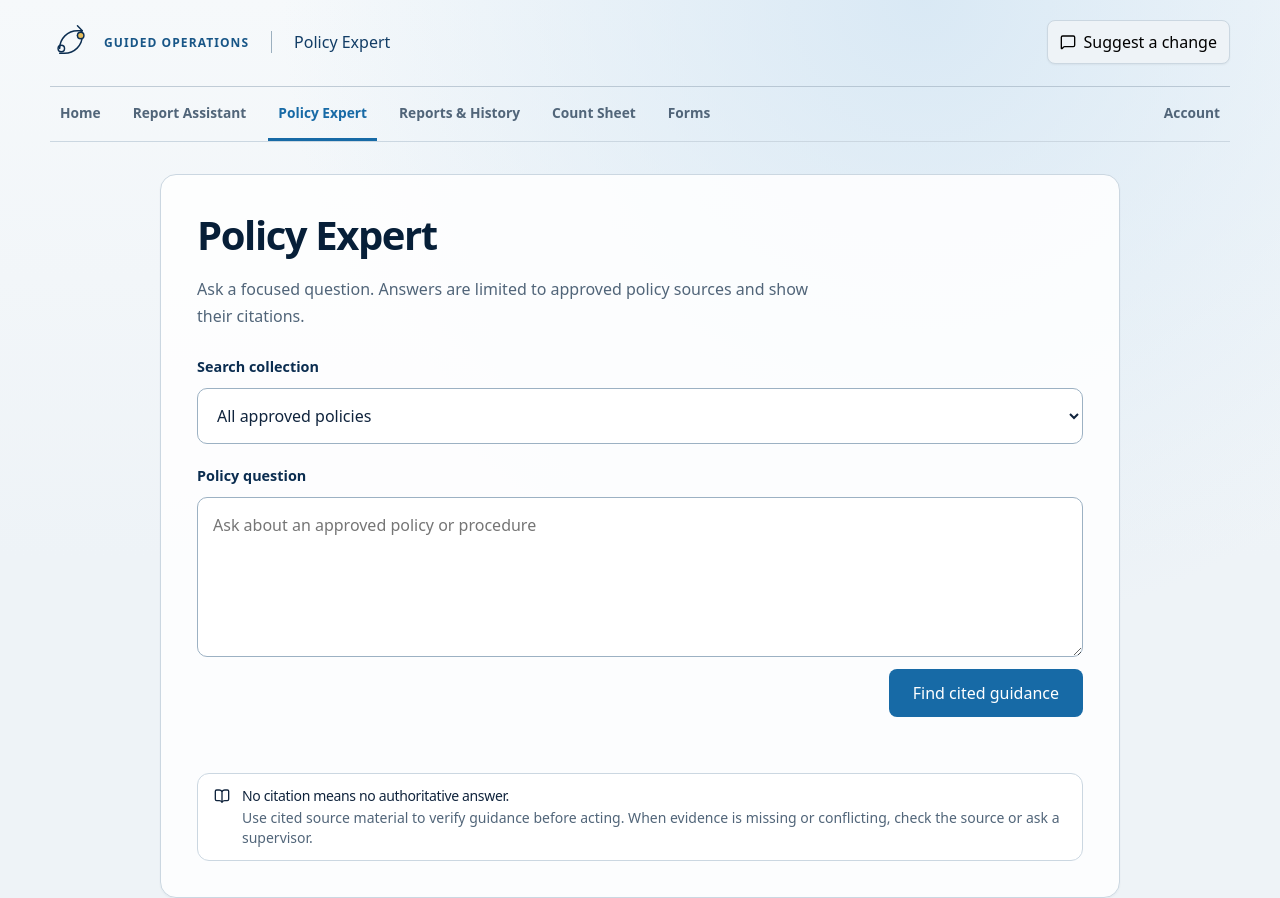
Test: PolicyExpert › links every cited answer to its authorized immutable source PDF
Type "What does the fictional review policy require?" into the text box labelled "Policy question". click: (640, 577)
box: [197,497,1083,657]
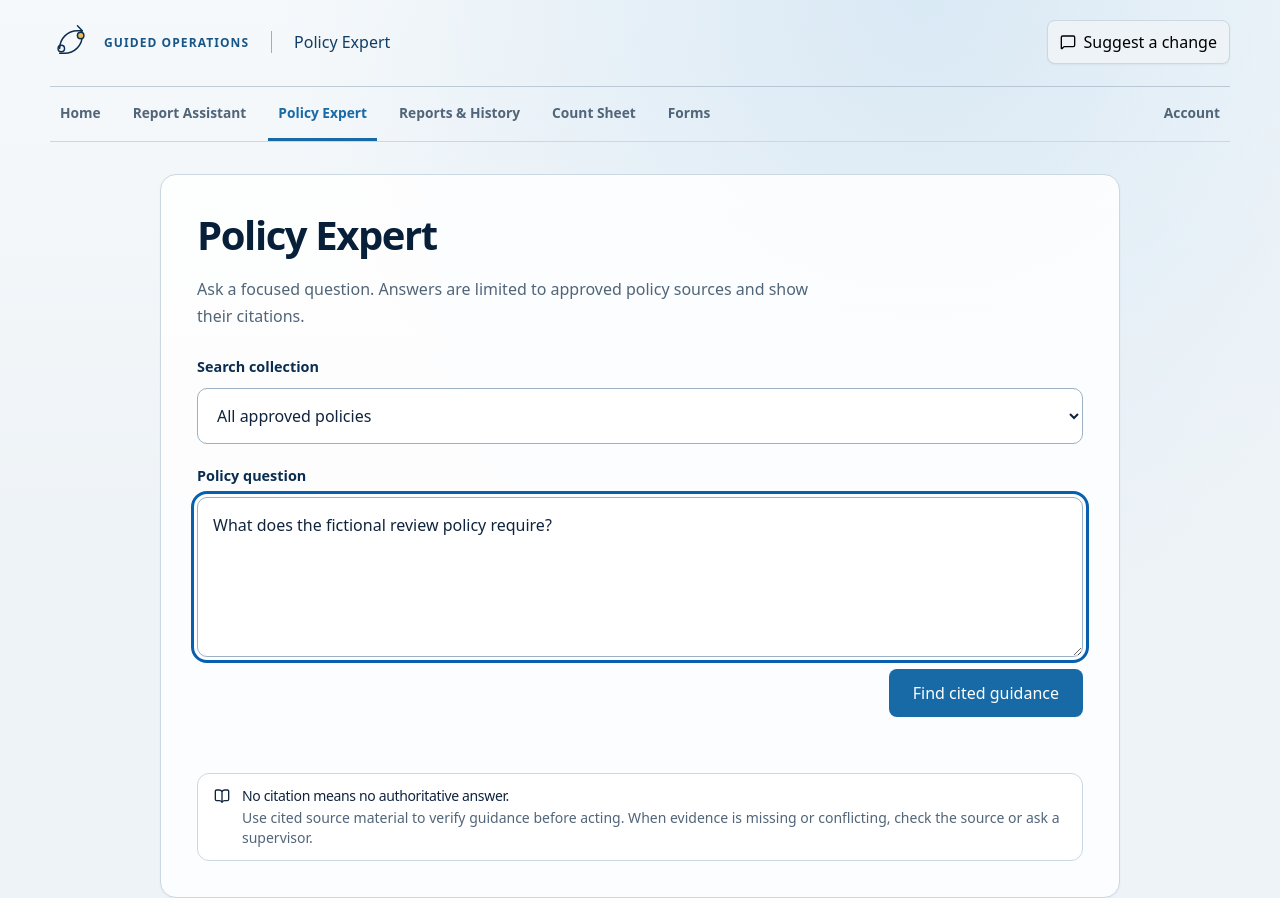
Click the button "Find cited guidance". click: (986, 693)
box: [889,669,1083,717]
(page scrolled)
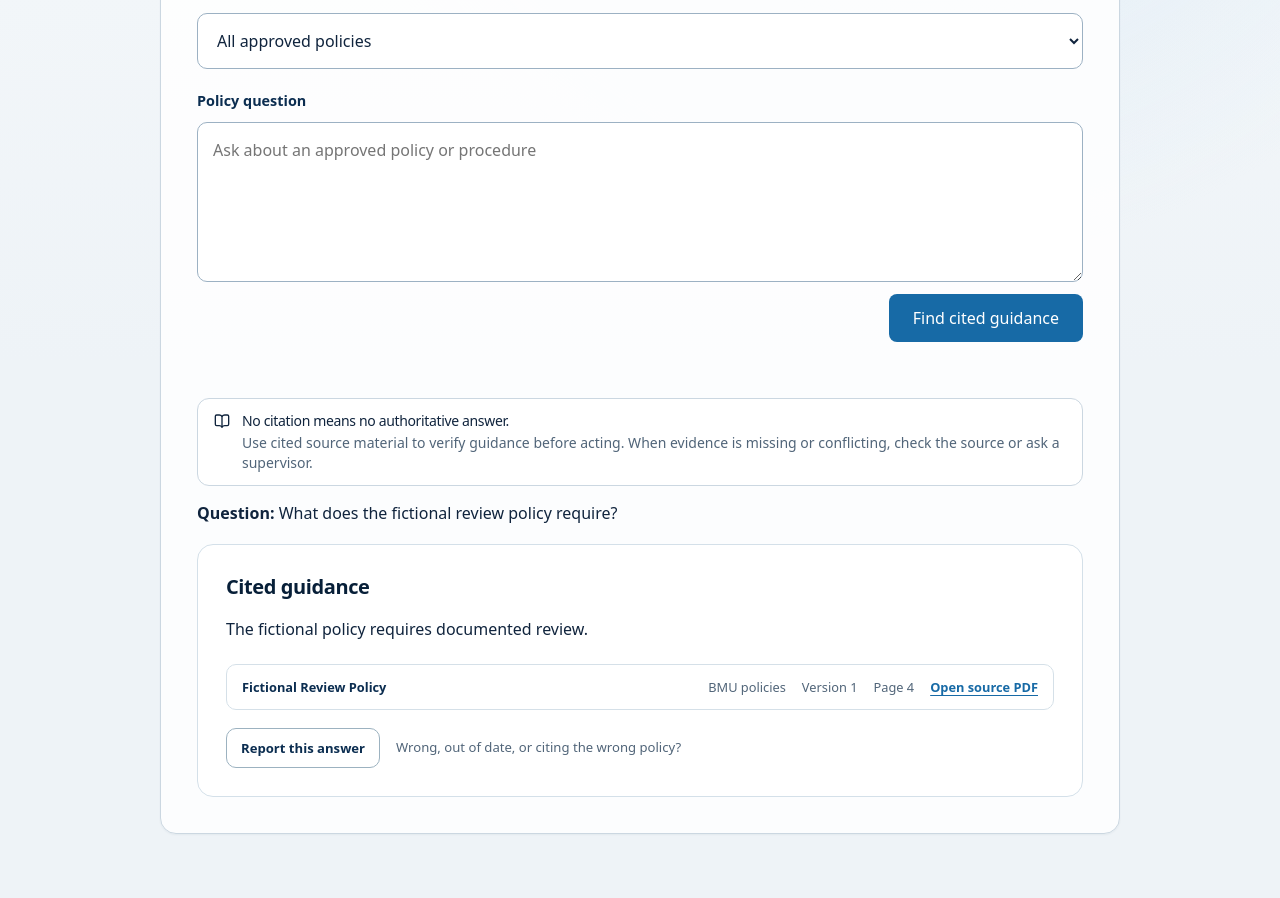
Result: the text "Page 4" is shown at [874,678,914,696]
Result: the text "BMU policies" is shown 2 times
